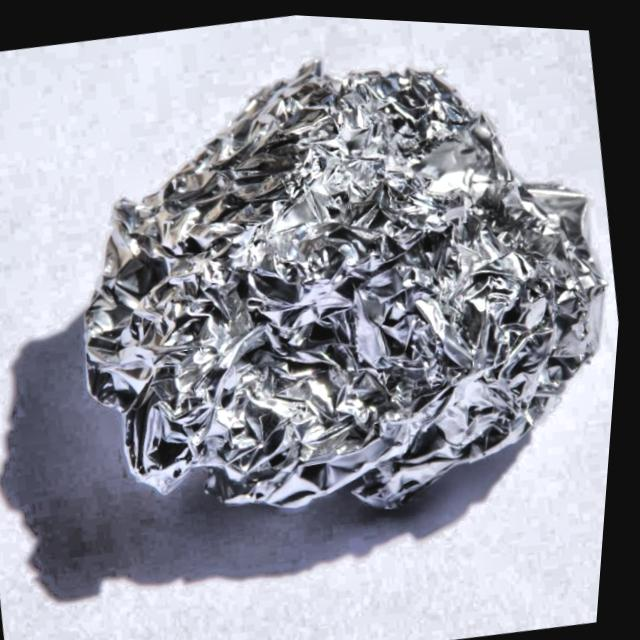Foil: (26, 2, 640, 573)
